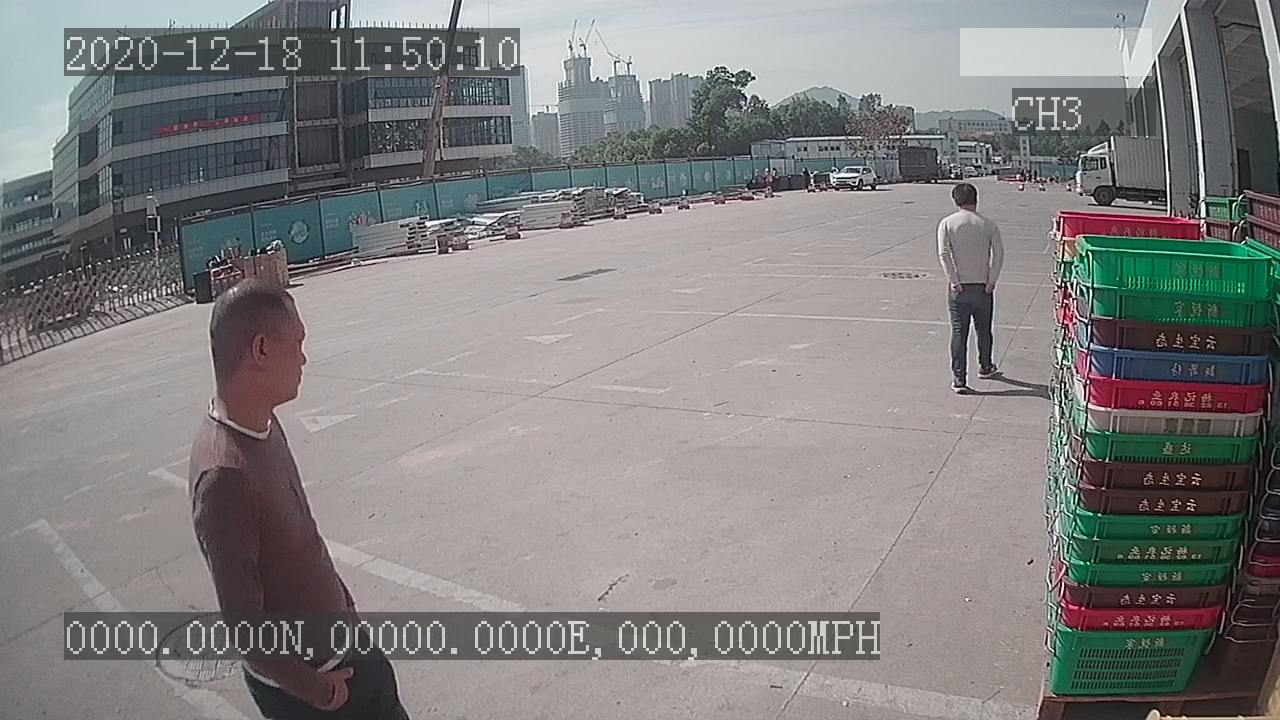person: (931, 177, 1006, 399)
